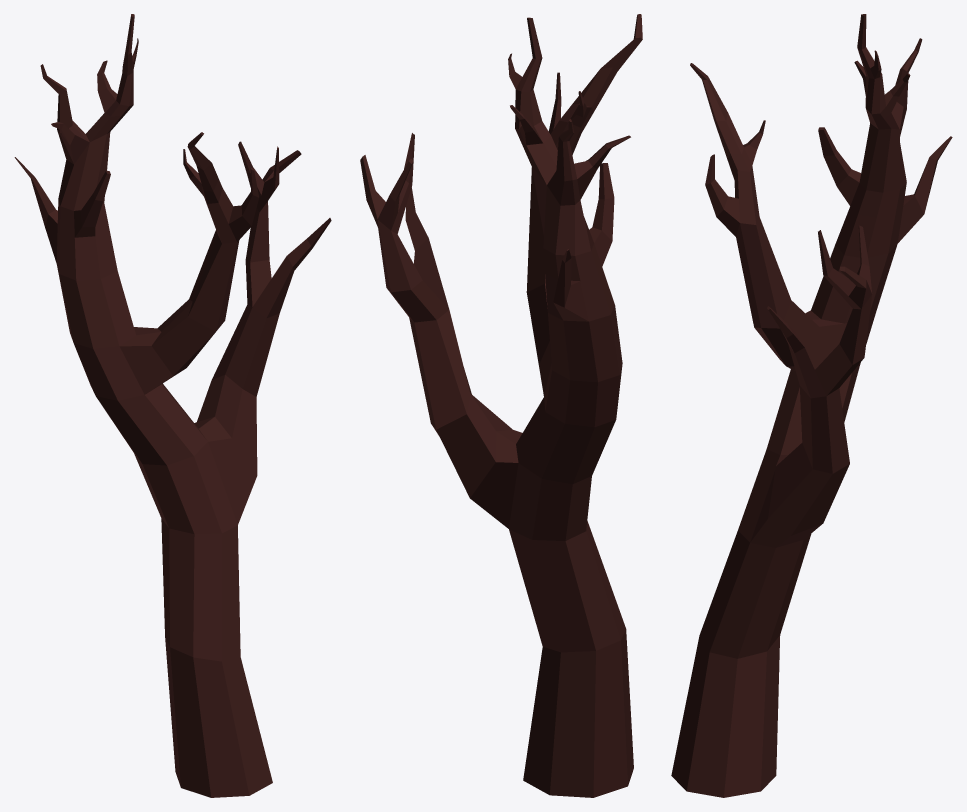
Rendered from Tree1b.fbx.
The picture shows the model from 3 angles, left to right: view 1: azimuth 30°, elevation 25°; view 2: azimuth 150°, elevation 25°; view 3: azimuth 270°, elevation 25°; orthographic projection. The views are drawn at different scales.
Parts seen in each view (by area): view 1: Tree1.001; view 2: Tree1.001; view 3: Tree1.001.
Boxes of the visible parts, x1,y1,x2,y2 form: Tree1.001: (14, 14, 331, 797); Tree1.001: (360, 14, 642, 797); Tree1.001: (671, 14, 952, 797).
Size of the model in its own units: 1438 by 4070 by 1385.
